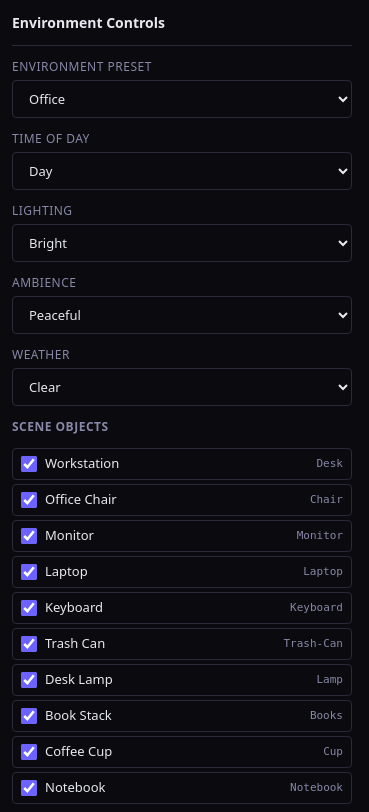
Scenario: EnvironmentControlPanel — hasChanges guard › Apply button is enabled after a preset select change
The image size is (369, 812).
Select "Outdoor" in the dropdown with test id "select-environment-preset": (182, 99) [12, 80, 352, 118]
(page scrolled)
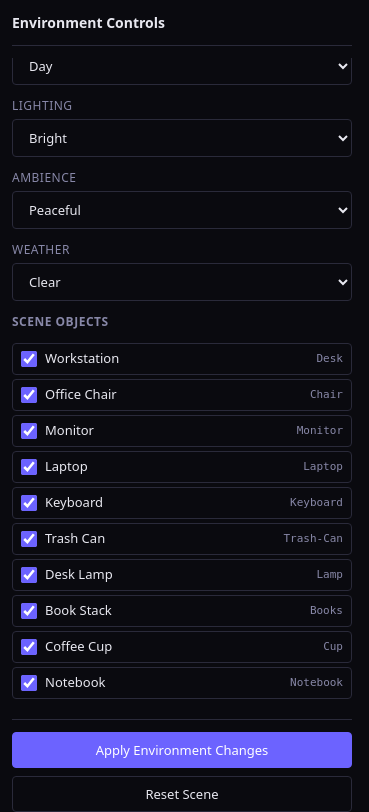
Result: the button with test id "btn-apply-environment" is enabled at [12, 732, 352, 768]
